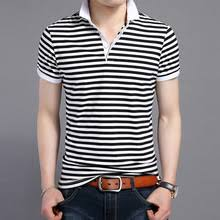striped: (34, 5, 185, 188)
